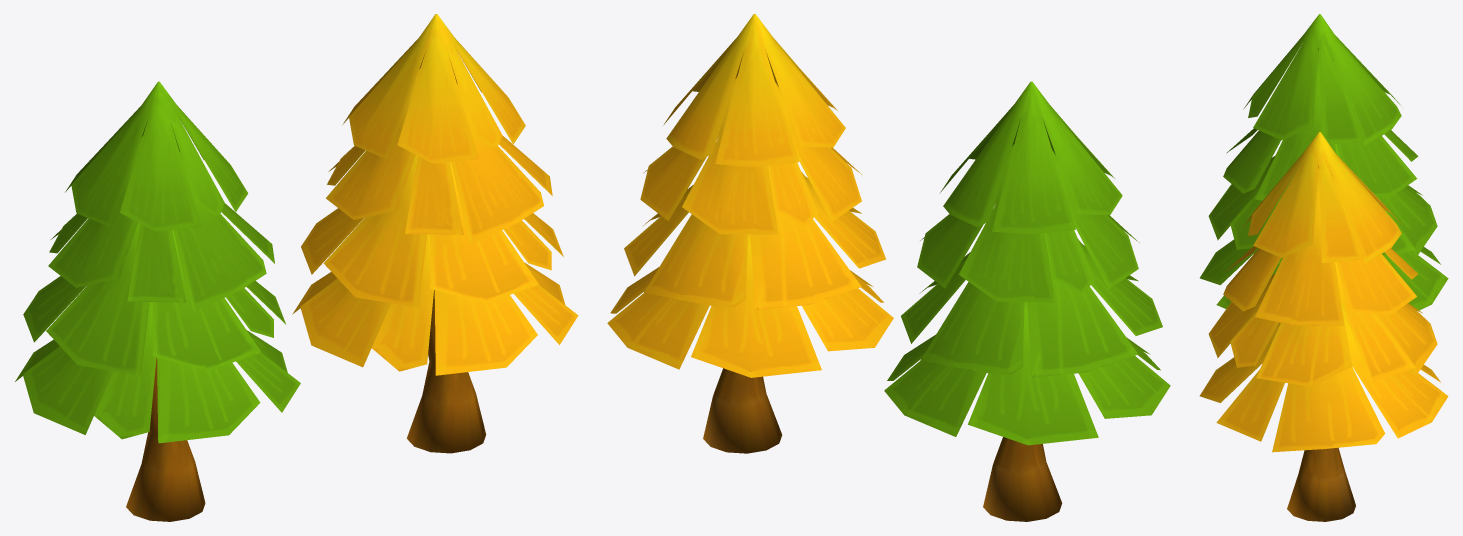
File: pine_tree.fbx
3 renders of one model, left to right at view 1: azimuth 30°, elevation 25°; view 2: azimuth 150°, elevation 25°; view 3: azimuth 270°, elevation 25°, orthographic. The views are drawn at different scales.
Visible parts, largest first — view 1: pine_tree01, pine_tree02; view 2: pine_tree02, pine_tree01; view 3: pine_tree02, pine_tree01.
Boxes of the visible parts, bbox=[...] form: pine_tree01: bbox=[15, 81, 300, 521]; pine_tree02: bbox=[292, 14, 578, 453]; pine_tree02: bbox=[607, 14, 893, 453]; pine_tree01: bbox=[884, 81, 1170, 521]; pine_tree02: bbox=[1199, 132, 1448, 521]; pine_tree01: bbox=[1200, 14, 1448, 311].
Size of the model in its own units: 810 by 626 by 382.
Materials: 3 (3 with a texture image).
